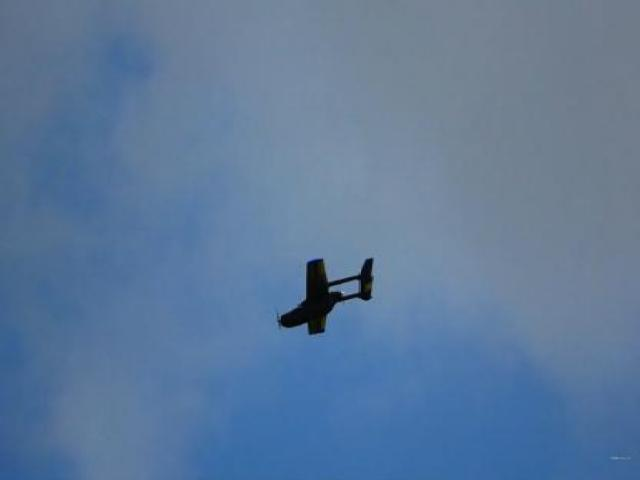uav: (278, 253, 378, 339)
